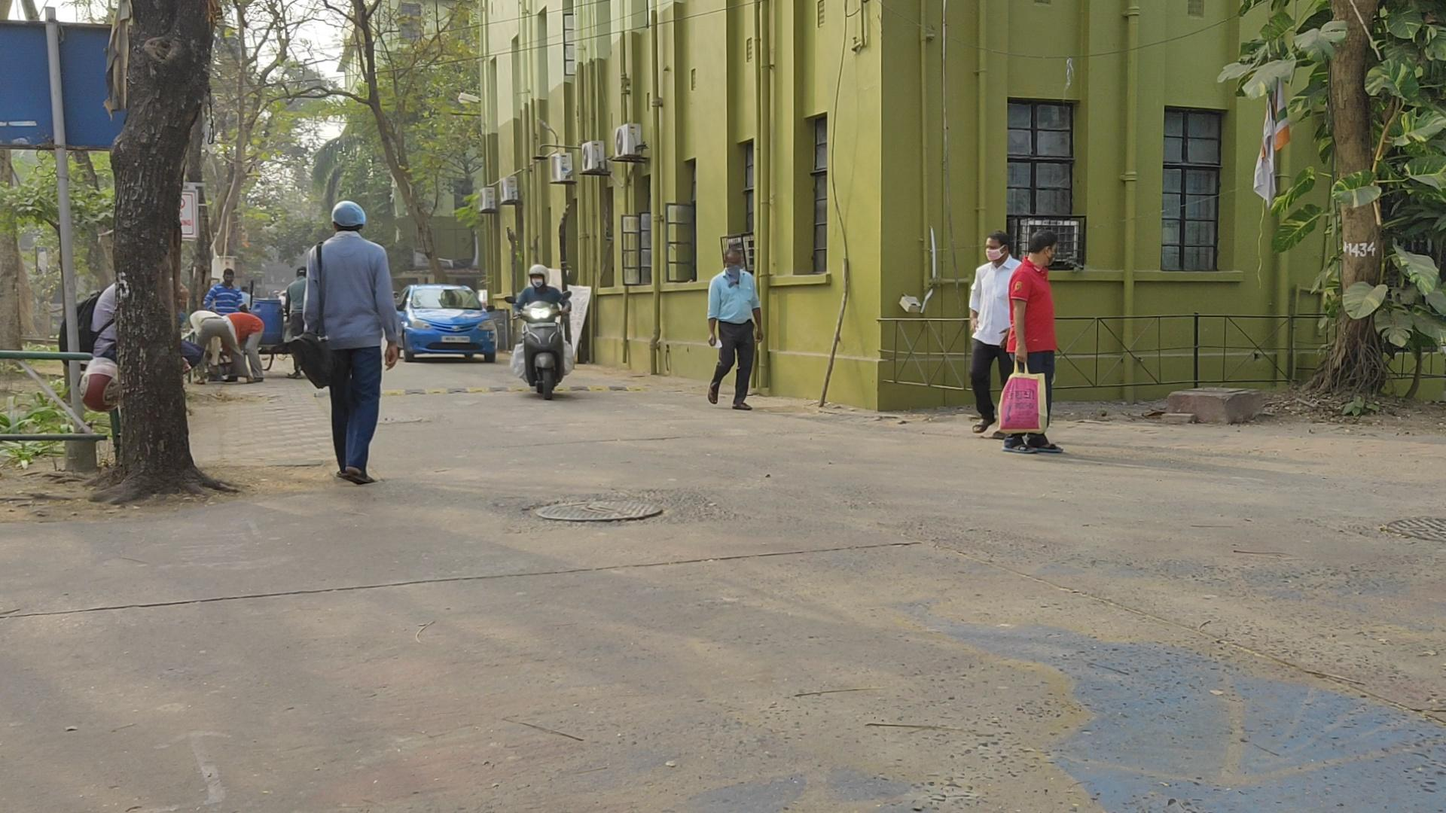bike: (505, 263, 574, 400)
car: (390, 285, 498, 364)
